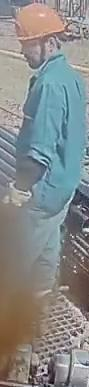gloves: (2, 180, 31, 207)
helmet: (13, 2, 64, 41)
vest: (22, 59, 84, 214)
